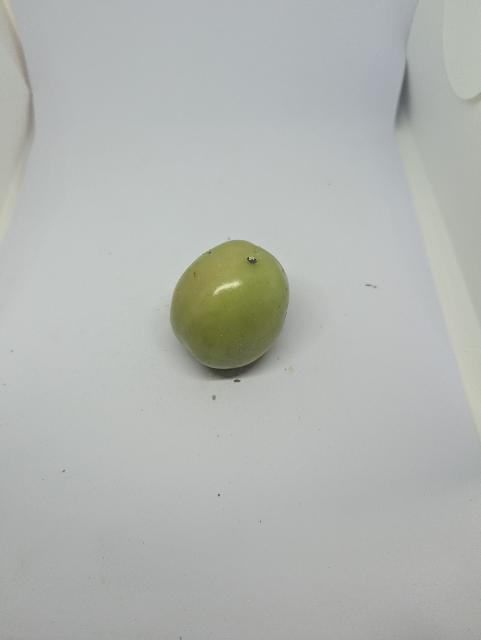green: (169, 237, 292, 372)
